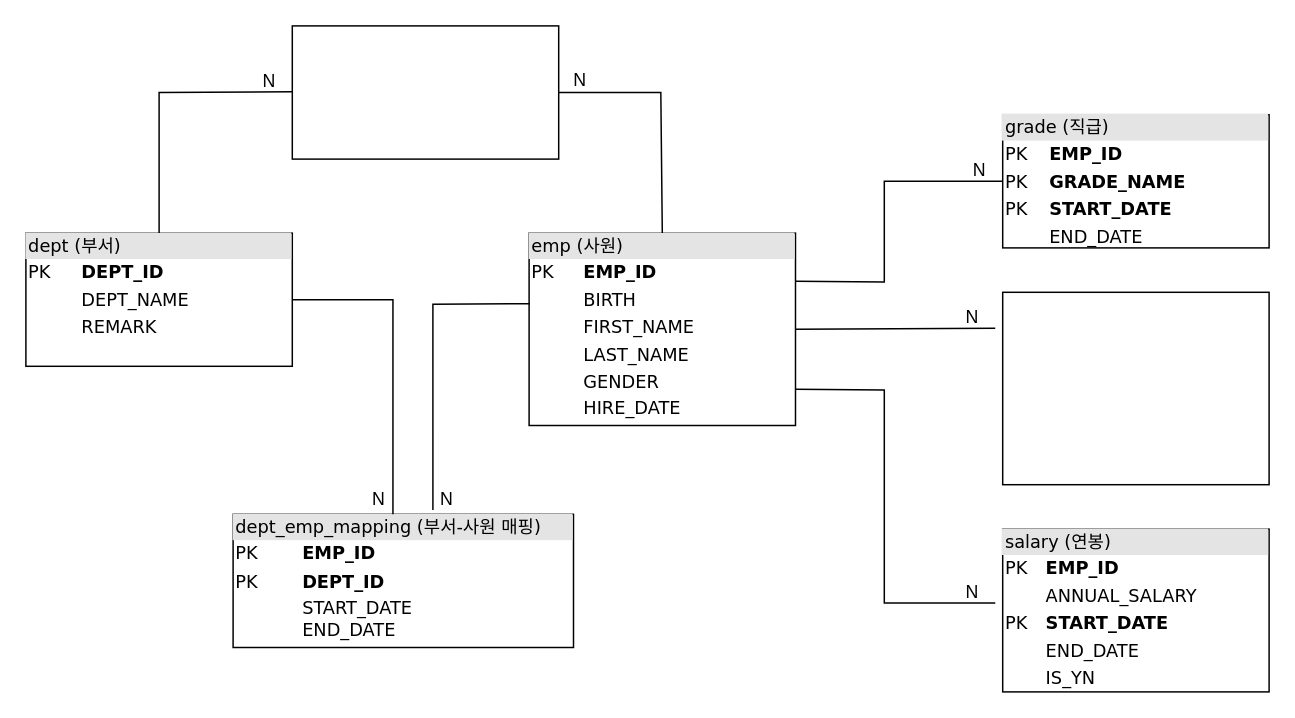
Some shapes in this 1295 by 718 pixel diagram are drawn without their labels. Each missing label, with the box of its shape:
entry_record (출입 기록) PK NO PK EMP_ID ENTRY_TIME INOUT GATE REGION: (1001, 291, 1269, 485)
manager (관리자) PK EMP_ID PK DEPT_ID START_DATE END_DATE: (291, 24, 559, 159)
